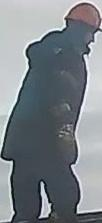gloves: (52, 115, 80, 167)
helmet: (64, 1, 102, 32)
vest: (0, 41, 88, 164)
